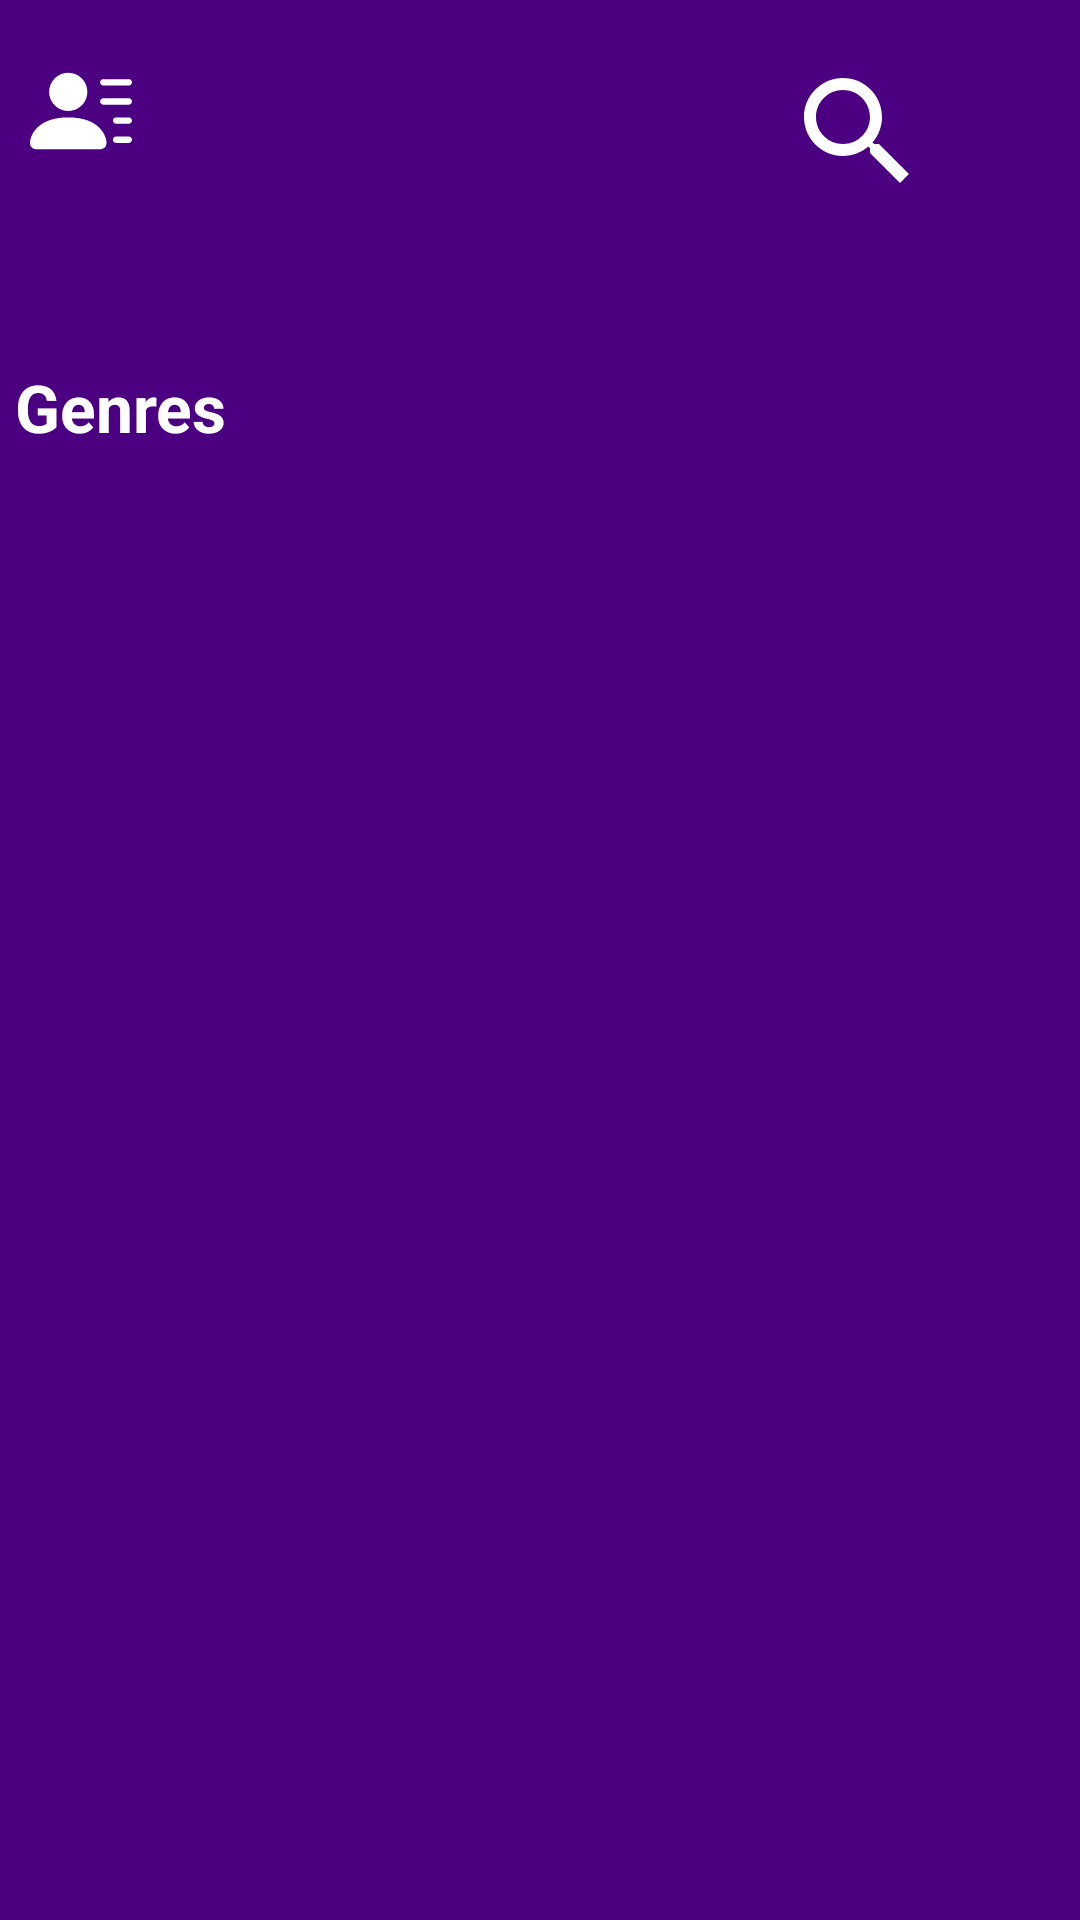

Icon bounding boxes for this 1080px×1920px phone screenshot, format (x1, y1, x2, y2):
account: (30, 72, 132, 150)
search: (804, 78, 909, 183)
